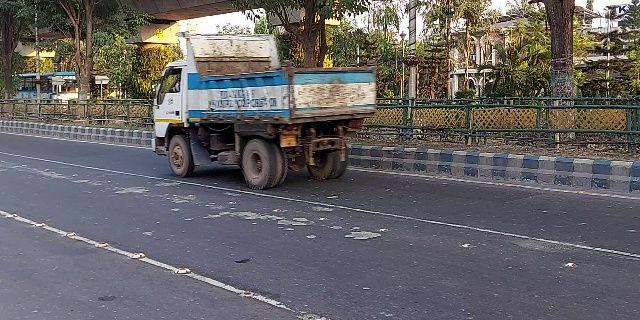Minitruck: (146, 30, 377, 189)
